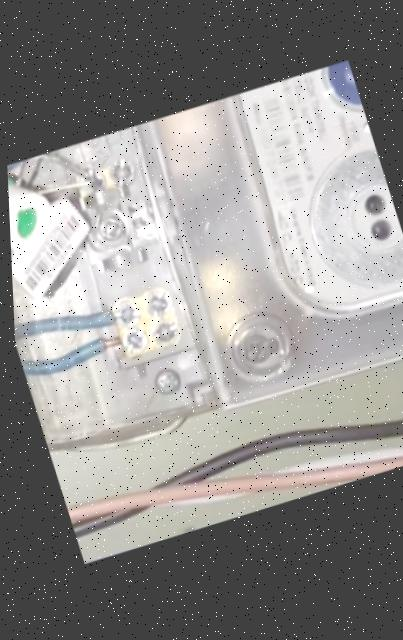electric-meter-detection: (7, 60, 403, 450)
